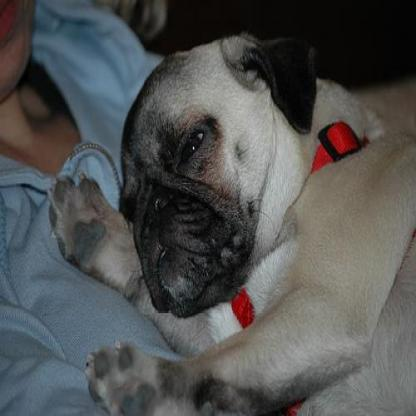pug: (44, 30, 414, 412)
